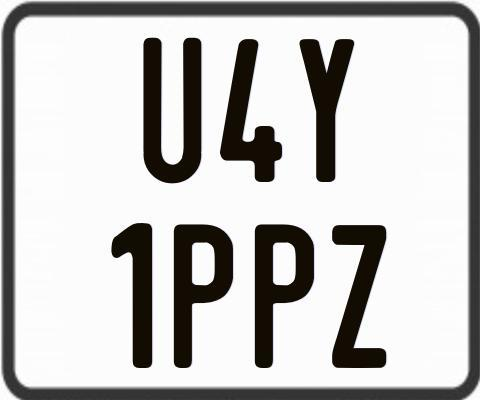1: (109, 223, 156, 370)
4: (218, 38, 282, 183)
P: (254, 224, 316, 369), (171, 224, 232, 371)
U: (143, 36, 206, 182)
Y: (300, 39, 360, 185)
Z: (330, 223, 390, 369)
